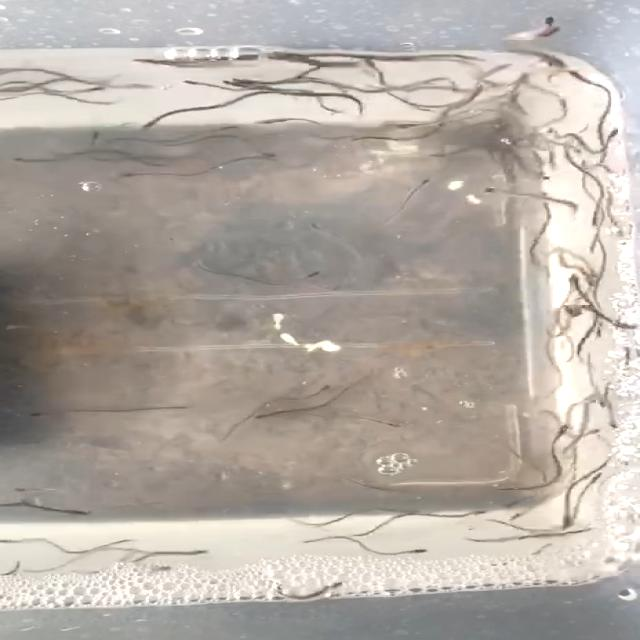inactive_glass_eel: (180, 77, 224, 95), (211, 74, 265, 86), (236, 143, 282, 157), (533, 14, 562, 36), (174, 548, 212, 562), (138, 54, 182, 66), (49, 507, 89, 519), (322, 577, 354, 591), (552, 305, 588, 317), (478, 181, 508, 195), (390, 122, 432, 132), (140, 117, 166, 133), (11, 153, 45, 165), (306, 220, 330, 237), (374, 420, 410, 431), (562, 67, 586, 83), (462, 506, 494, 518), (308, 380, 334, 394), (213, 122, 243, 134), (570, 272, 588, 292), (249, 410, 285, 420), (588, 392, 610, 408), (556, 512, 572, 534), (362, 59, 386, 73), (410, 178, 434, 192), (72, 87, 112, 95), (586, 472, 606, 488), (398, 546, 432, 555), (114, 172, 150, 180), (604, 413, 622, 429), (576, 429, 604, 439), (589, 213, 605, 230), (548, 427, 570, 439), (26, 410, 62, 417), (607, 128, 621, 142), (299, 271, 318, 281)
